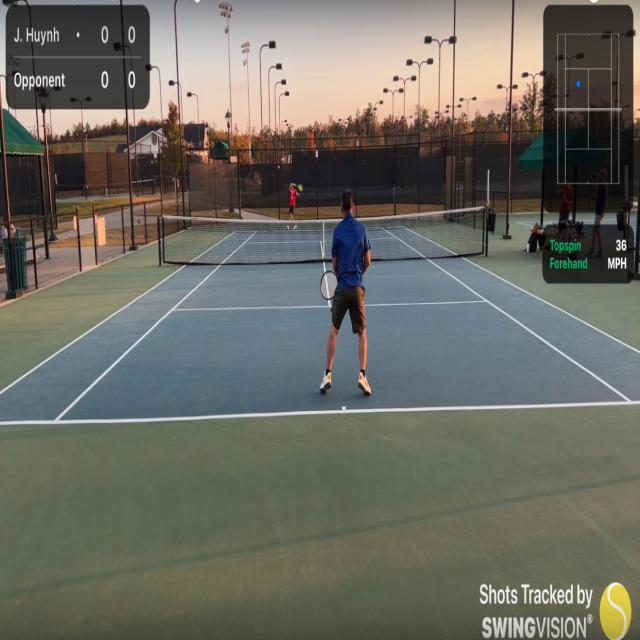ball: (278, 165, 280, 169)
